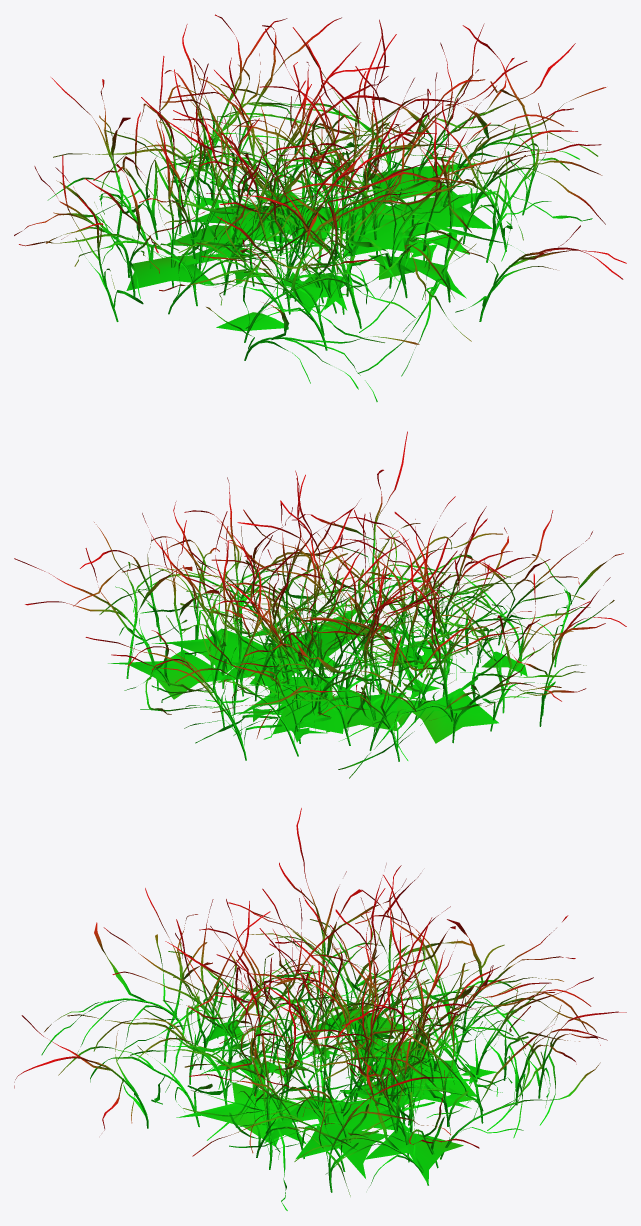
The model's file is Kikuyu Grass_LOD0_Var8_wiljearqx.fbx.
3 renders of one model, top to bottom at view 1: azimuth 30°, elevation 25°; view 2: azimuth 150°, elevation 25°; view 3: azimuth 270°, elevation 25°, orthographic. The views are drawn at different scales.
Parts seen in each view (by area): view 1: _edw7_Var8_LOD0; view 2: _edw7_Var8_LOD0; view 3: _edw7_Var8_LOD0.
Part boxes in pixels (x1,y1,x2,y2): _edw7_Var8_LOD0: [14, 14, 626, 401]; _edw7_Var8_LOD0: [14, 431, 626, 778]; _edw7_Var8_LOD0: [14, 808, 626, 1210].
Size of the model in its own units: 102 by 37.83 by 97.26.
